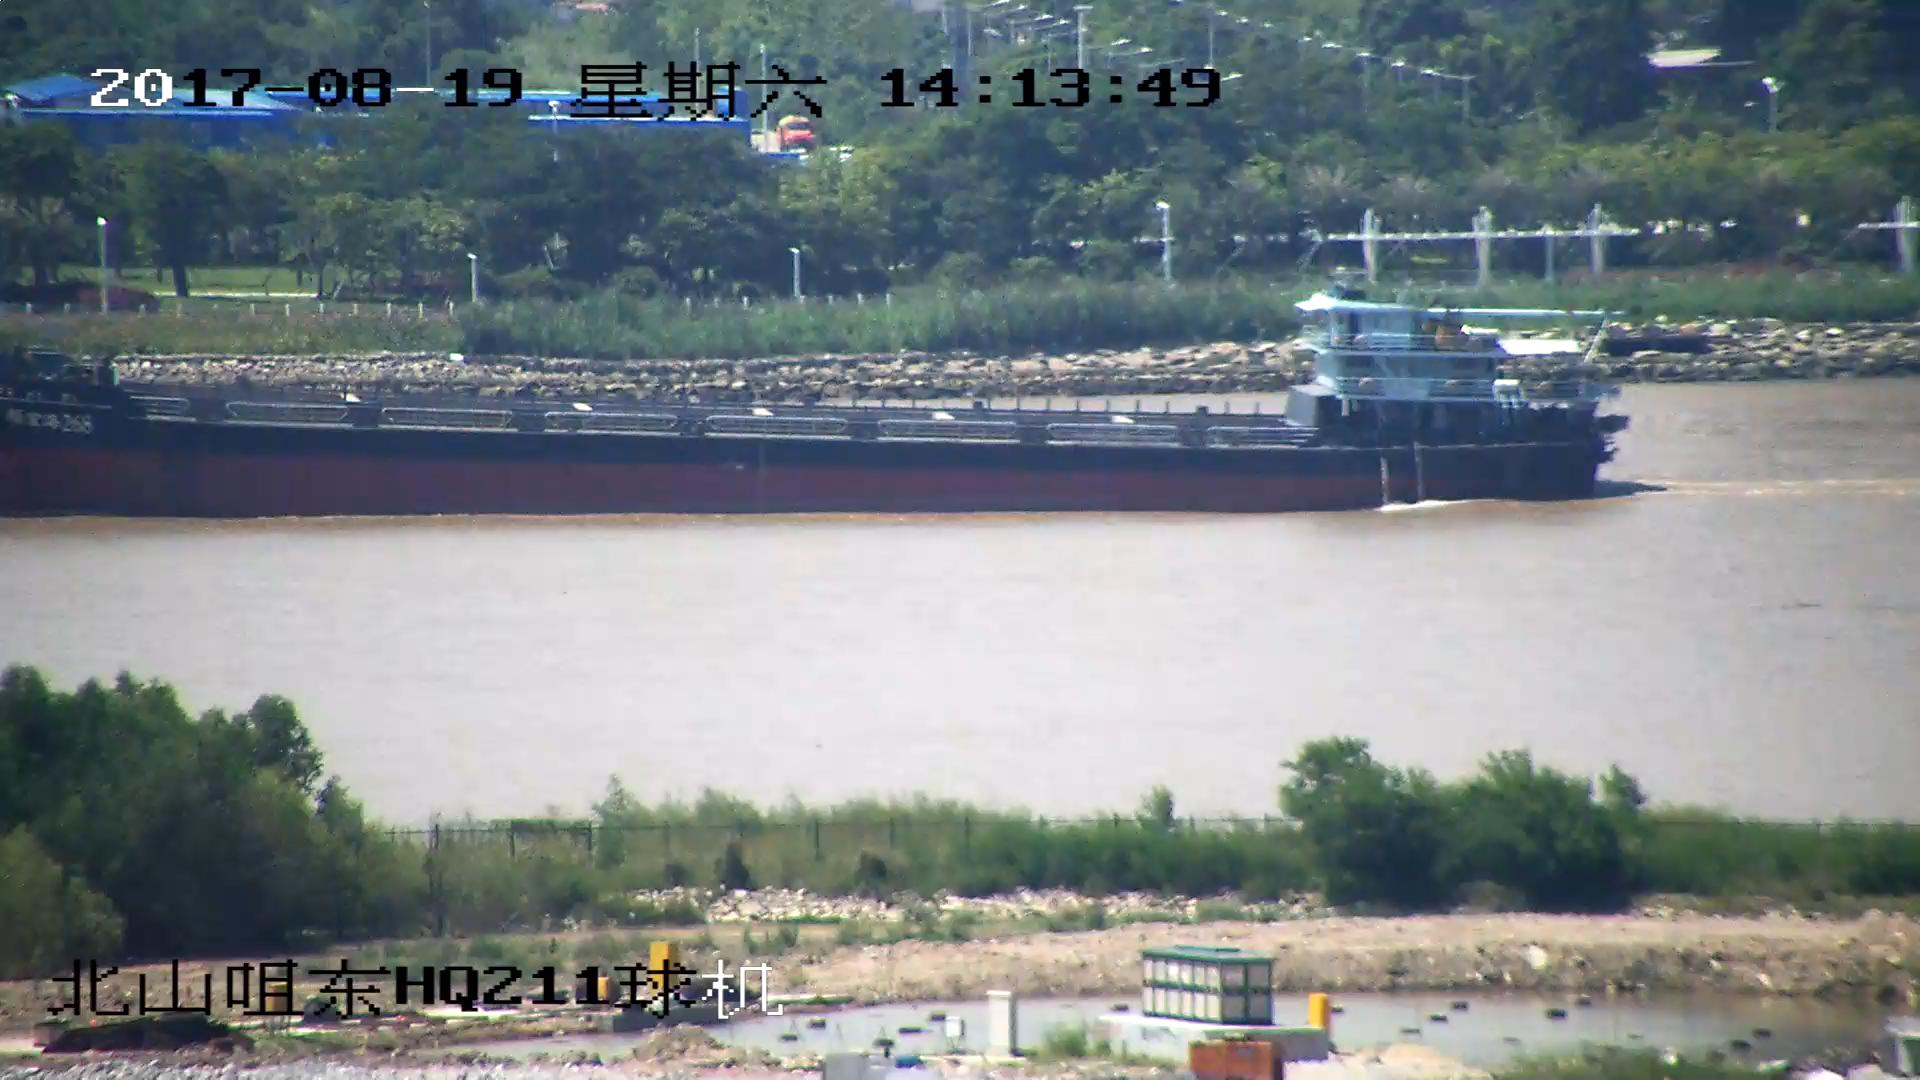bulk cargo carrier: (1, 274, 1637, 517)
